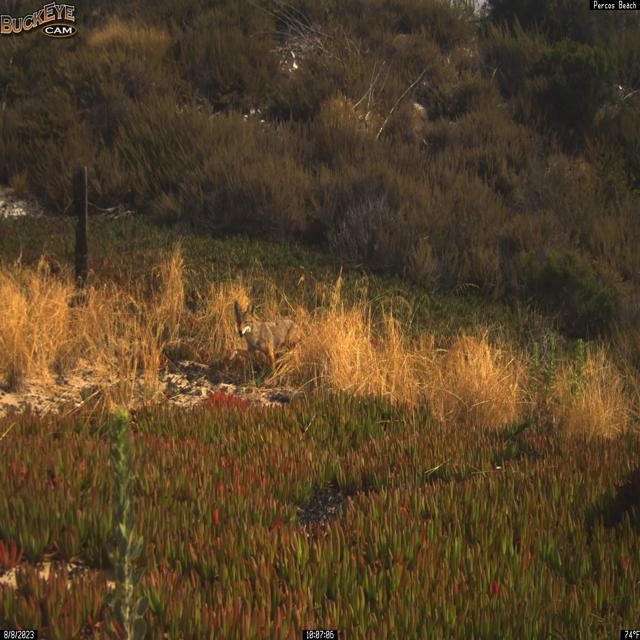coyote: (232, 299, 303, 377)
